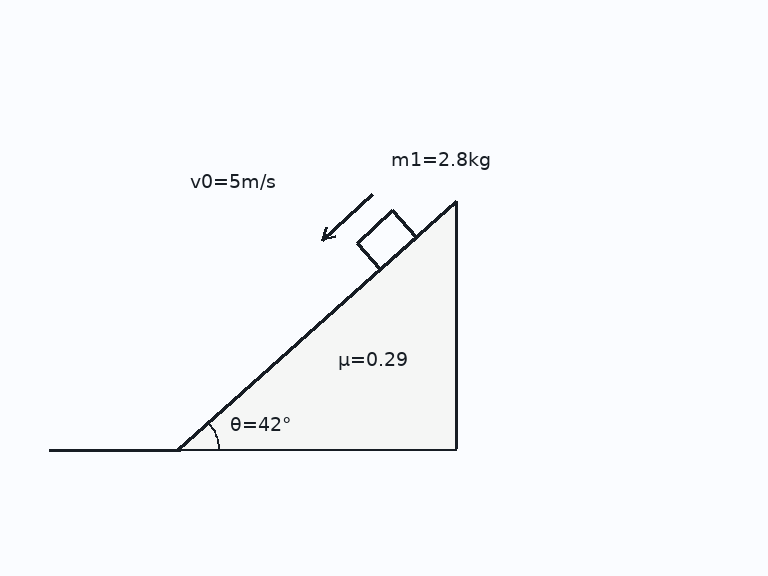block: (354, 208, 418, 271)
ramp: (177, 198, 458, 452)
